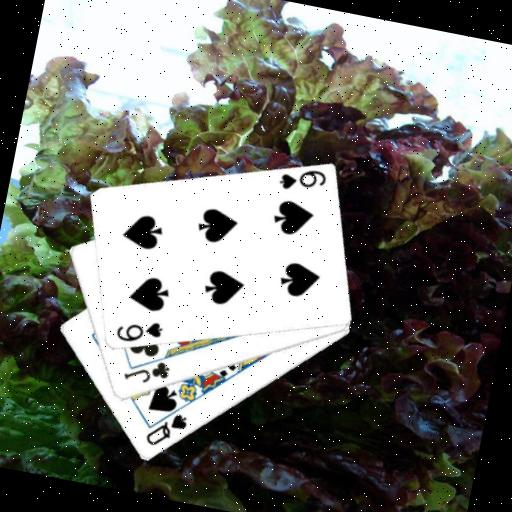6S: (111, 313, 166, 351), (274, 161, 329, 199)
JC: (120, 352, 174, 390)
QS: (141, 406, 190, 454)
